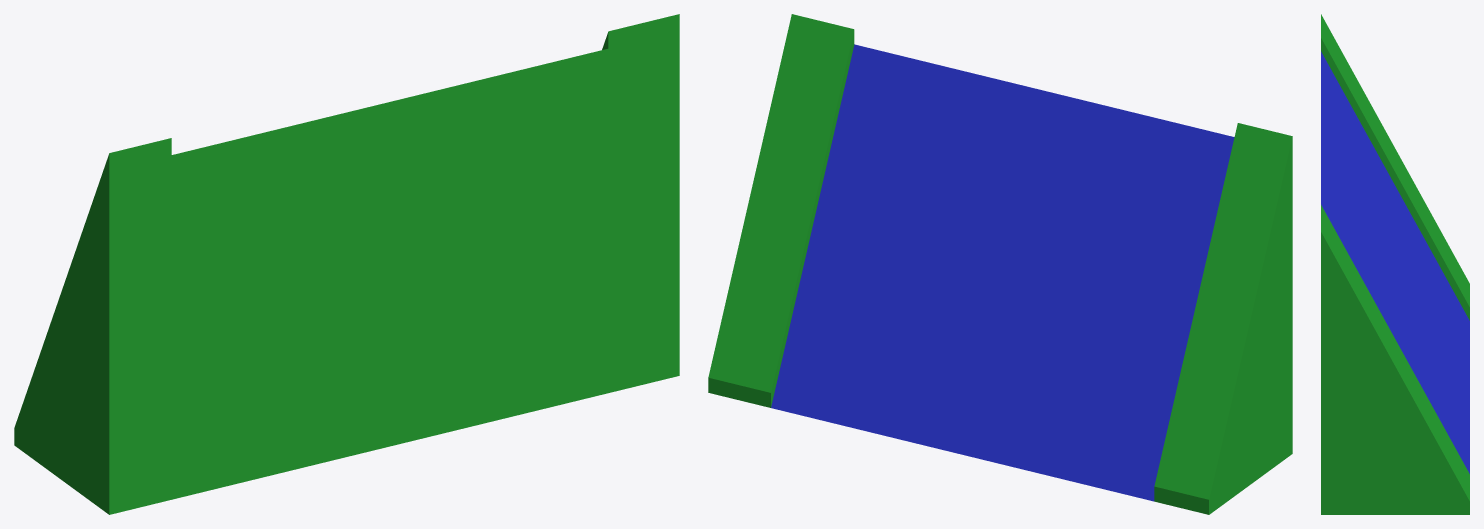
File: module-edge_river_cliff_left_002.glb
The picture shows the model from 3 angles, left to right: view 1: azimuth 30°, elevation 25°; view 2: azimuth 150°, elevation 25°; view 3: azimuth 270°, elevation 25°; orthographic projection. The views are drawn at different scales.
Visible parts, largest first — view 1: module-edge_river_cliff_left_002; view 2: module-edge_river_cliff_left_002; view 3: module-edge_river_cliff_left_002.
Part boxes in pixels (x1,y1,x2,y2): module-edge_river_cliff_left_002: [14, 14, 679, 514]; module-edge_river_cliff_left_002: [708, 14, 1292, 514]; module-edge_river_cliff_left_002: [1321, 14, 1469, 514].
Size of the model in its own units: 0.866 by 0.525 by 0.25.
